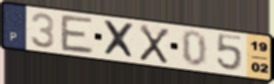0: (180, 30, 209, 69)
3: (30, 11, 56, 49)
5: (215, 31, 244, 73)
E: (60, 13, 96, 56)
X: (101, 19, 137, 61), (138, 22, 171, 66)
